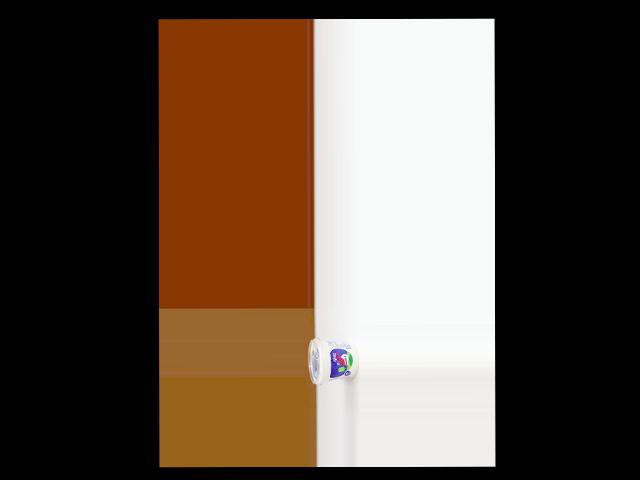cotage: (308, 336, 358, 384)
